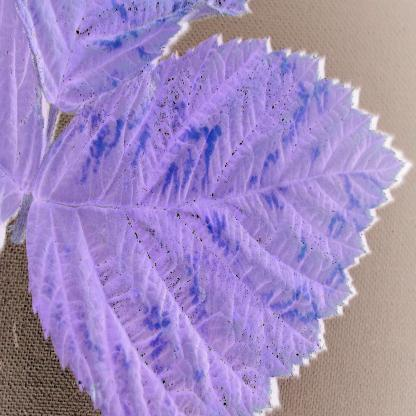Raspberry leaf: (27, 34, 397, 416)
